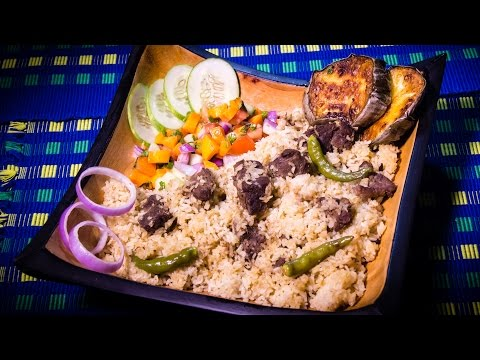tehari: (23, 47, 465, 330)
